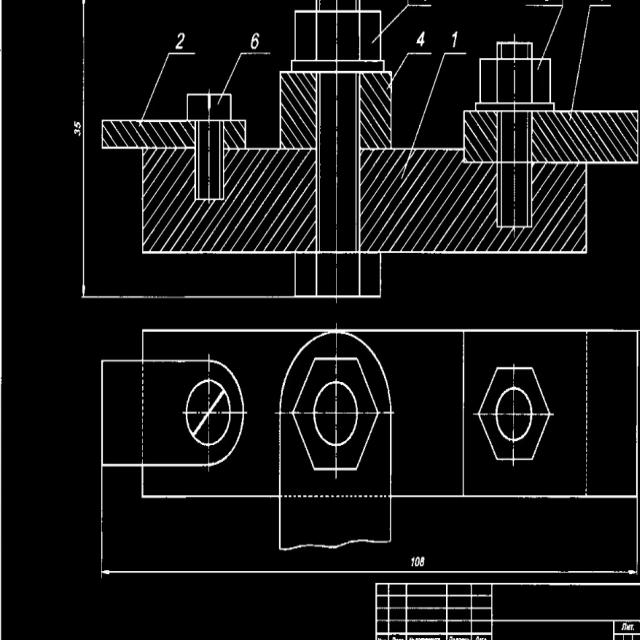marking_line: (98, 550, 640, 576), (78, 0, 100, 301), (412, 52, 463, 146), (567, 4, 611, 109), (142, 53, 185, 119), (223, 50, 273, 91), (382, 2, 432, 37), (536, 4, 565, 58), (394, 50, 432, 82)
numeric: (249, 32, 259, 51), (176, 31, 185, 50), (415, 30, 425, 47), (453, 31, 458, 49), (415, 556, 421, 568), (73, 121, 81, 129), (74, 129, 81, 137), (420, 556, 425, 567), (410, 556, 415, 567)
